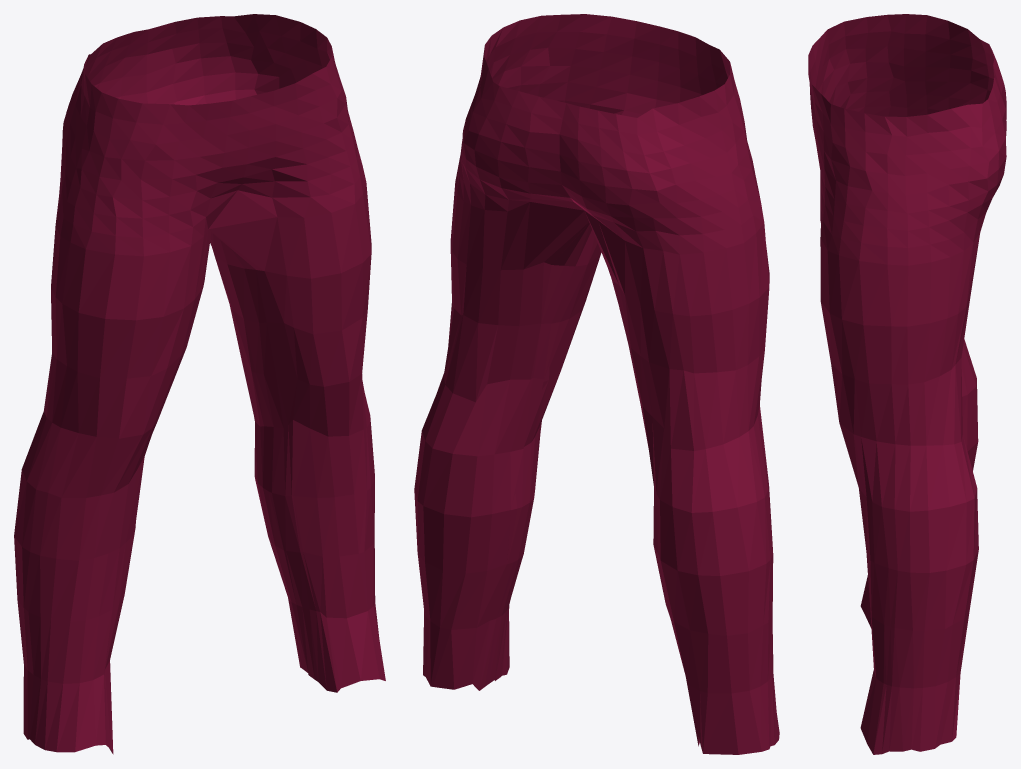
The model's file is pantm.obj.
3 views of the same model, side by side, from view 1: azimuth 30°, elevation 25°; view 2: azimuth 150°, elevation 25°; view 3: azimuth 270°, elevation 25° (orthographic). The views are drawn at different scales.
Parts seen in each view (by area): view 1: MalePants_Cube.001; view 2: MalePants_Cube.001; view 3: MalePants_Cube.001.
Part boxes in pixels (x1,y1,x2,y2): MalePants_Cube.001: (14, 14, 385, 754); MalePants_Cube.001: (414, 14, 779, 754); MalePants_Cube.001: (808, 14, 1006, 754).
Size of the model in its own units: 5.05 by 9.21 by 2.67.
